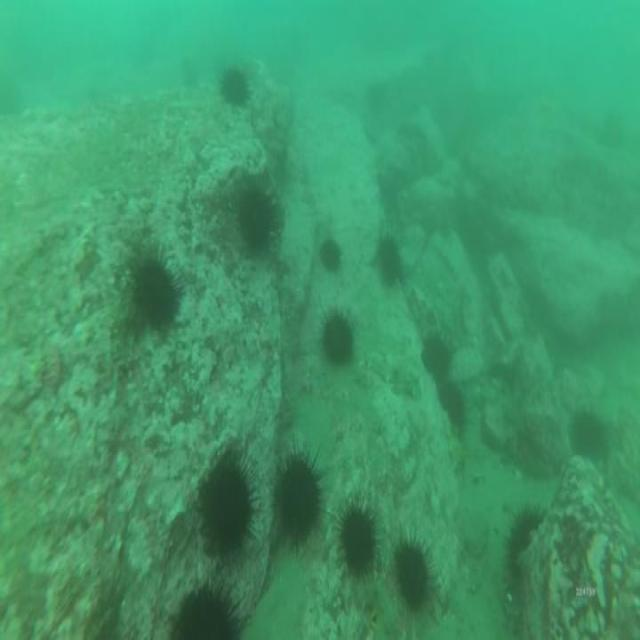echinus: (268, 438, 324, 558), (199, 444, 255, 564), (169, 564, 251, 640), (127, 247, 185, 338), (333, 488, 383, 588), (390, 525, 438, 621), (503, 496, 549, 582), (236, 187, 279, 254), (318, 303, 357, 370), (568, 405, 608, 466), (216, 63, 255, 112), (374, 231, 404, 294), (419, 333, 454, 382), (436, 378, 468, 425), (316, 231, 345, 281)
holothurian: (352, 573, 401, 640), (441, 414, 466, 477)
